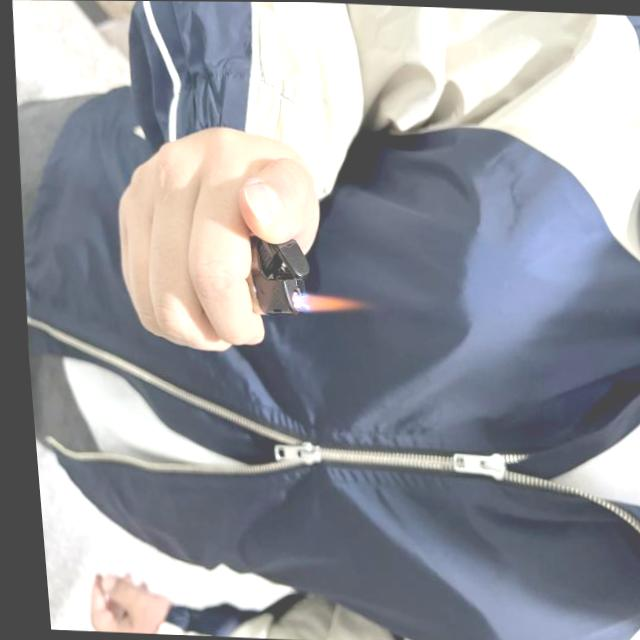Fire: (284, 287, 363, 316)
